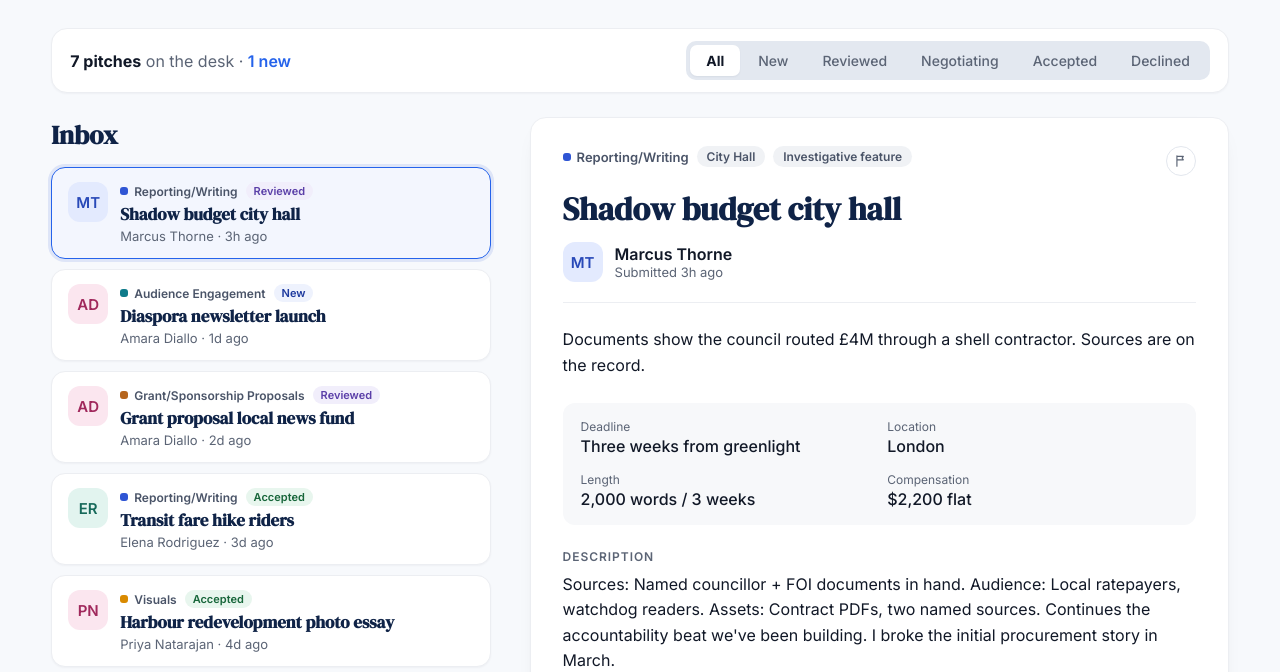
Scenario: PitchInbox › shows only the pitches for the chosen tab
Expected: the 1st text "Reviewed" is shown, [246,182,313,200]
Click the button "Declined" at [1160, 60], box [1115,45,1206,76]
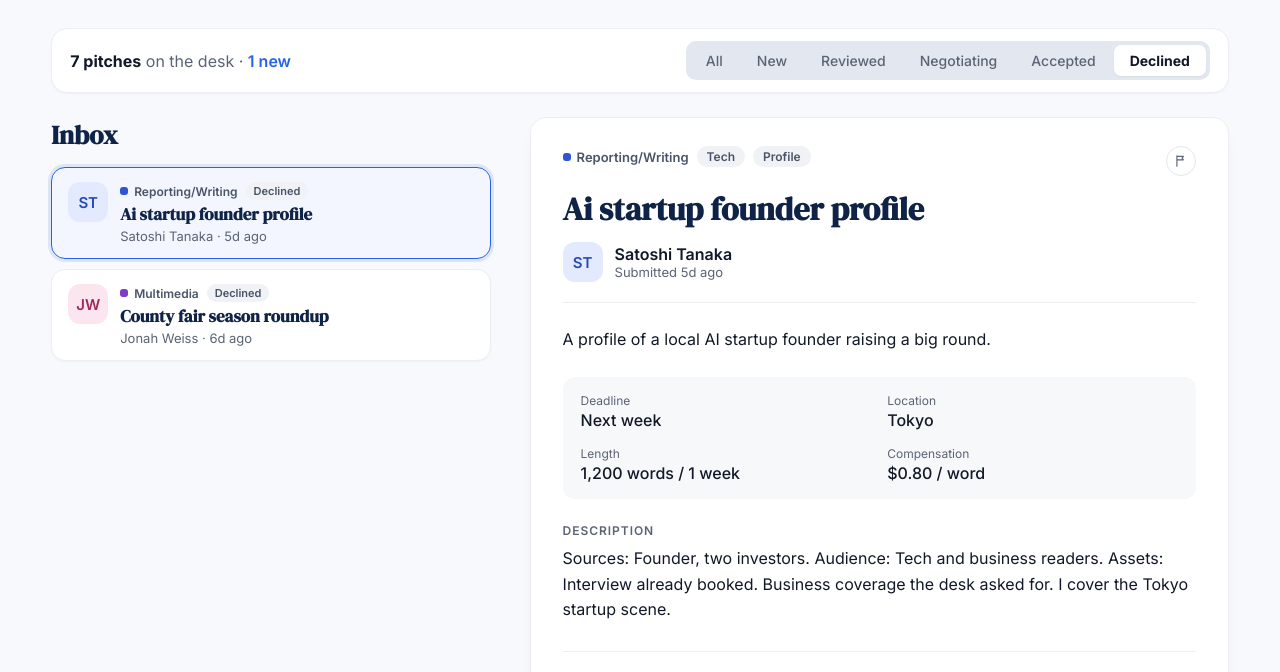
Now the button "Shadow budget city hall" is gone
